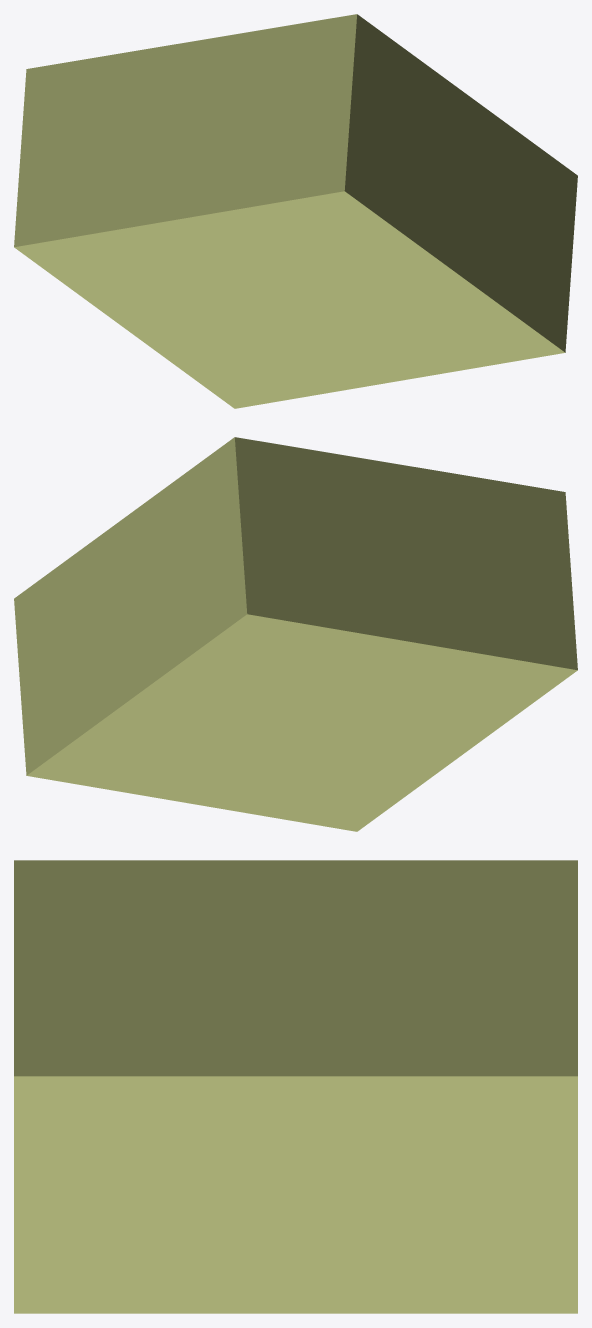
3 renders of one model, top to bottom at view 1: azimuth 30°, elevation 25°; view 2: azimuth 150°, elevation 25°; view 3: azimuth 270°, elevation 25°, orthographic. The views are drawn at different scales.
Parts seen in each view (by area): view 1: 0_1_2_0_1_3_0_2_3_0_0_2; view 2: 0_1_2_0_1_3_0_2_3_0_0_2; view 3: 0_1_2_0_1_3_0_2_3_0_0_2.
Boxes of the visible parts, box(x1,y1,x2,y2) form: 0_1_2_0_1_3_0_2_3_0_0_2: box(14, 14, 577, 408); 0_1_2_0_1_3_0_2_3_0_0_2: box(14, 437, 577, 831); 0_1_2_0_1_3_0_2_3_0_0_2: box(14, 860, 577, 1313).
Bounding box in the file's own units: 5.38 × 3 × 6.
